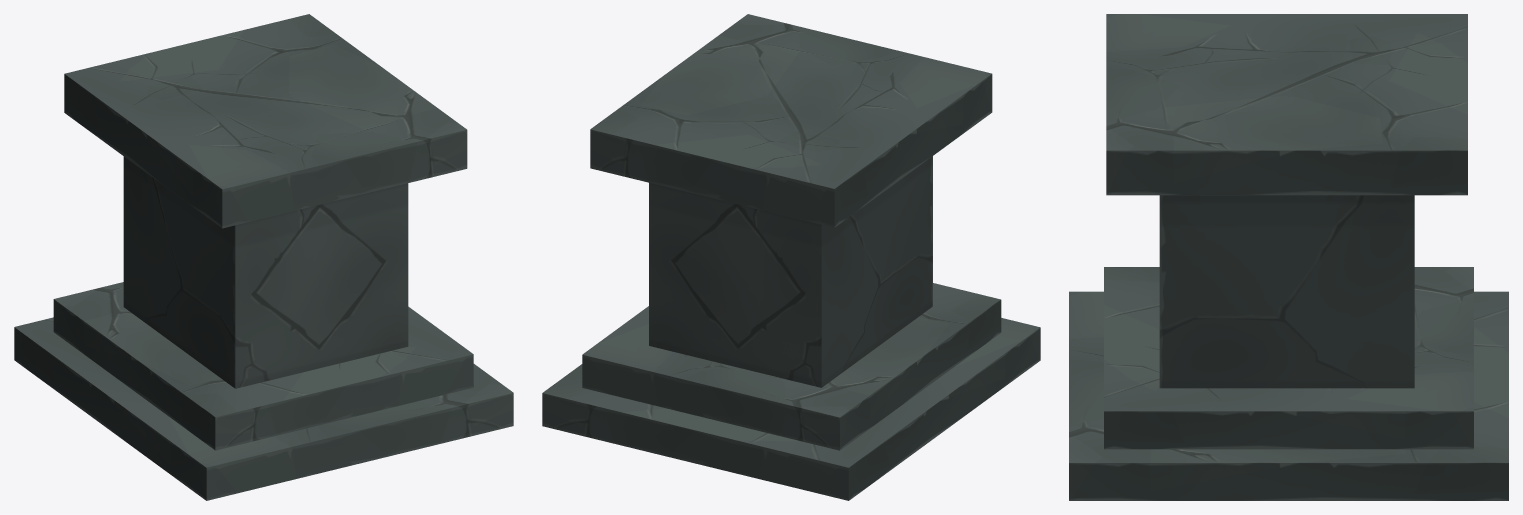
File: Dg_01_StoneObjects_05.FBX
3 views of the same model, side by side, from view 1: azimuth 30°, elevation 25°; view 2: azimuth 150°, elevation 25°; view 3: azimuth 270°, elevation 25° (orthographic). The views are drawn at different scales.
Parts seen in each view (by area): view 1: Dg_01_StoneObjects_05; view 2: Dg_01_StoneObjects_05; view 3: Dg_01_StoneObjects_05.
Boxes of the visible parts, x1,y1,x2,y2 form: Dg_01_StoneObjects_05: (14,14,513,500); Dg_01_StoneObjects_05: (542,14,1040,500); Dg_01_StoneObjects_05: (1069,14,1508,500).
Size of the model in its own units: 2.42 by 2.19 by 2.62.
